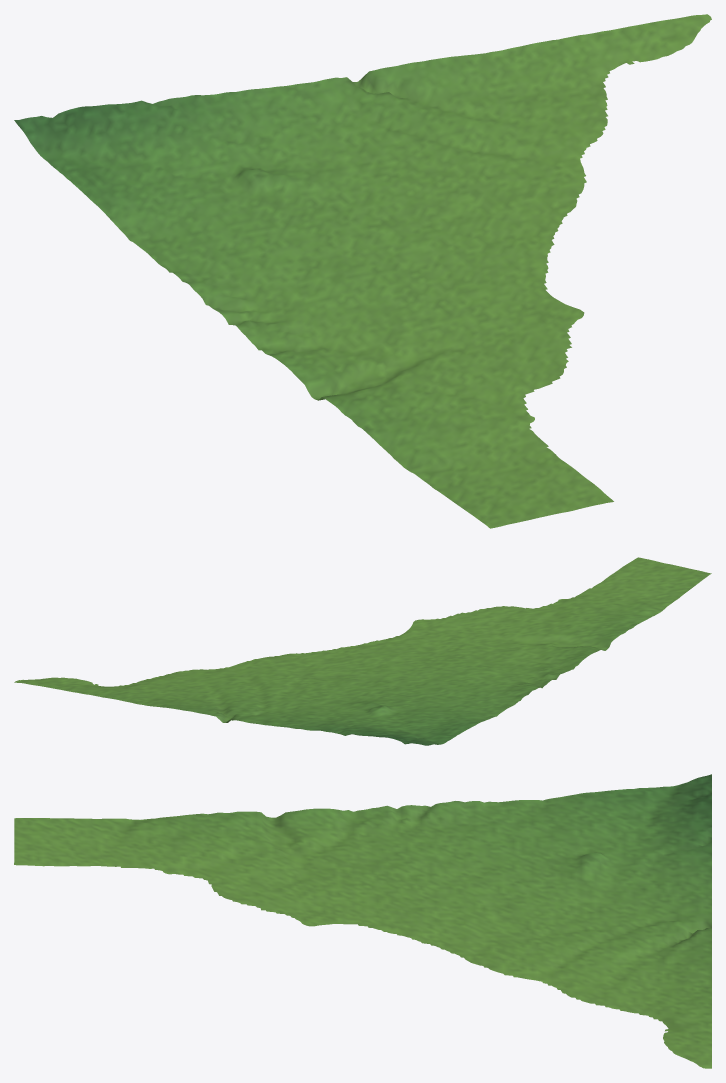
Rendered from lareunion-terrain-11.glb.
3 views of the same model, one above another, from view 1: azimuth 30°, elevation 25°; view 2: azimuth 150°, elevation 25°; view 3: azimuth 270°, elevation 25° (orthographic). The views are drawn at different scales.
Visible parts, largest first — view 1: LaReunionRgeAltiTerrain_11; view 2: LaReunionRgeAltiTerrain_11; view 3: LaReunionRgeAltiTerrain_11.
Part boxes in pixels (bbox=[...]): LaReunionRgeAltiTerrain_11: bbox=[14, 14, 711, 528]; LaReunionRgeAltiTerrain_11: bbox=[14, 557, 711, 745]; LaReunionRgeAltiTerrain_11: bbox=[14, 774, 711, 1068].
Size of the model in its own units: 43.03 by 3.82 by 51.18.
